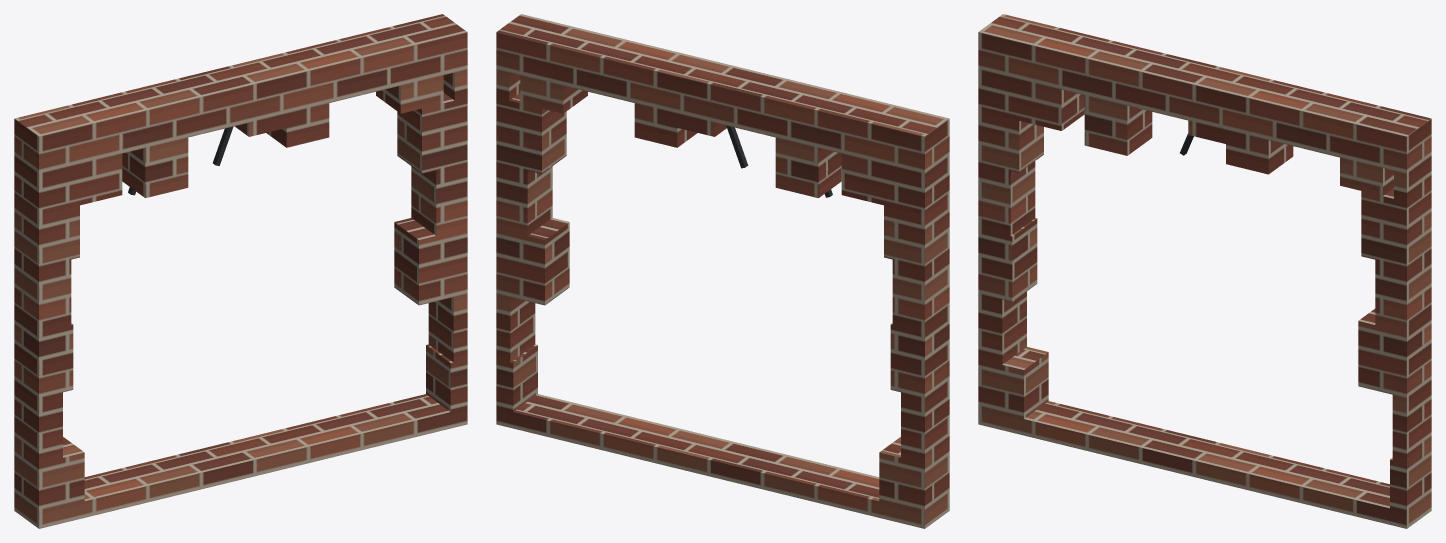
The model's file is ct_holeo.glb.
3 views of the same model, side by side, from view 1: azimuth 30°, elevation 25°; view 2: azimuth 150°, elevation 25°; view 3: azimuth 330°, elevation 25° (orthographic).
Visible parts, largest first — view 1: city_ct_holeo; view 2: city_ct_holeo; view 3: city_ct_holeo.
Boxes of the visible parts, bbox=[...] form: city_ct_holeo: bbox=[14, 14, 467, 528]; city_ct_holeo: bbox=[496, 14, 949, 528]; city_ct_holeo: bbox=[978, 14, 1431, 528].
Size of the model in its own units: 4 by 3.5 by 0.4.
Materials: 2 (2 with a texture image).
